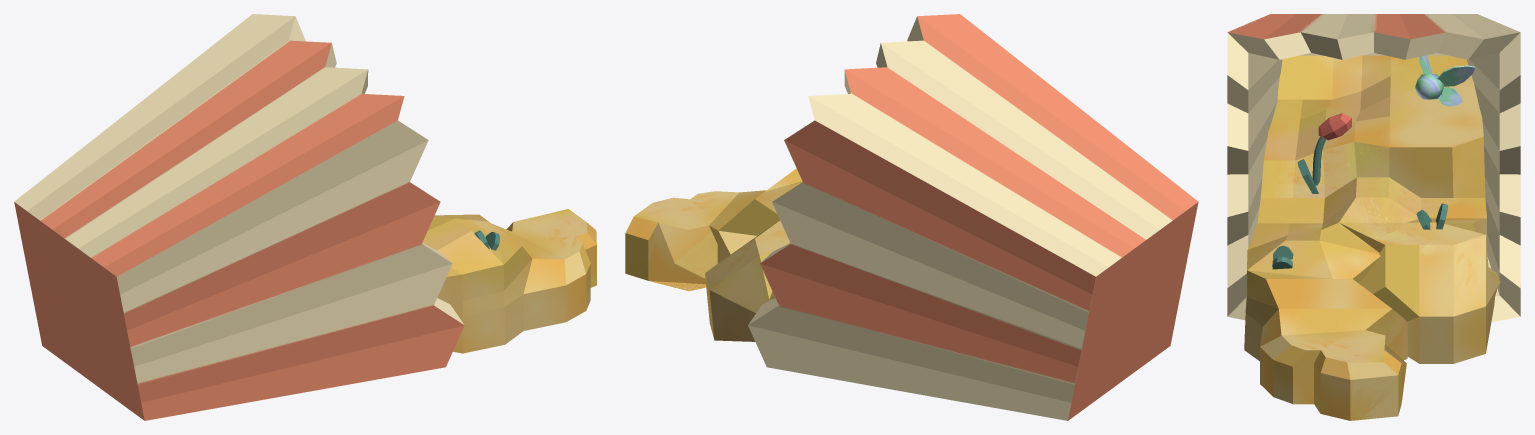
File: popcorn_fairy.fbx
3 renders of one model, left to right at view 1: azimuth 30°, elevation 25°; view 2: azimuth 150°, elevation 25°; view 3: azimuth 270°, elevation 25°, orthographic.
Visible parts, largest first — view 1: bucket.001, popcorn.001; view 2: bucket.001, popcorn.001; view 3: popcorn.001, bucket.001, fairy, flower, stem, leaf.002.
Part boxes in pixels (x1=…): bucket.001: x1=14, y1=14, x2=464, y2=420; popcorn.001: x1=422, y1=209, x2=596, y2=353; bucket.001: x1=748, y1=14, x2=1198, y2=420; popcorn.001: x1=625, y1=168, x2=802, y2=341; popcorn.001: x1=1244, y1=55, x2=1500, y2=420; bucket.001: x1=1227, y1=14, x2=1520, y2=322; fairy: x1=1415, y1=55, x2=1475, y2=106; flower: x1=1318, y1=113, x2=1351, y2=140; stem: x1=1312, y1=136, x2=1325, y2=185; leaf.002: x1=1297, y1=159, x2=1318, y2=193.
Size of the model in its own units: 413 by 202 by 200.
Materials: 5 (5 with a texture image).
